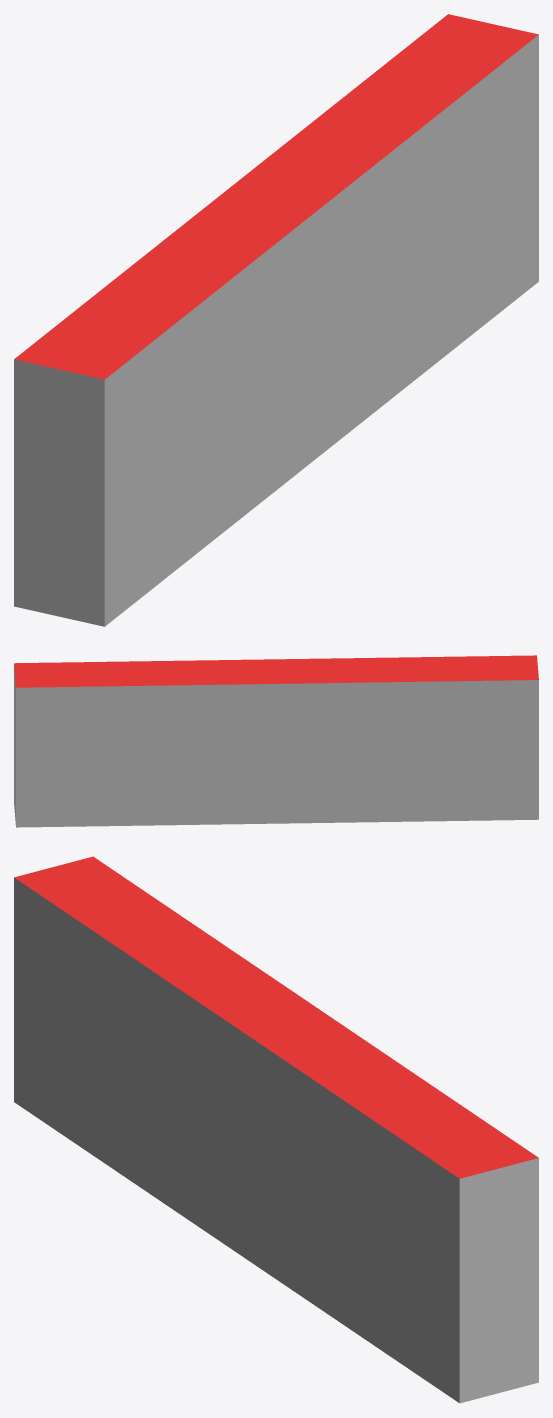
3 renders of one model, top to bottom at view 1: azimuth 30°, elevation 25°; view 2: azimuth 150°, elevation 25°; view 3: azimuth 270°, elevation 25°, orthographic. The views are drawn at different scales.
Bounding box in the file's own units: 48.97 × 33.71 × 15.92.
